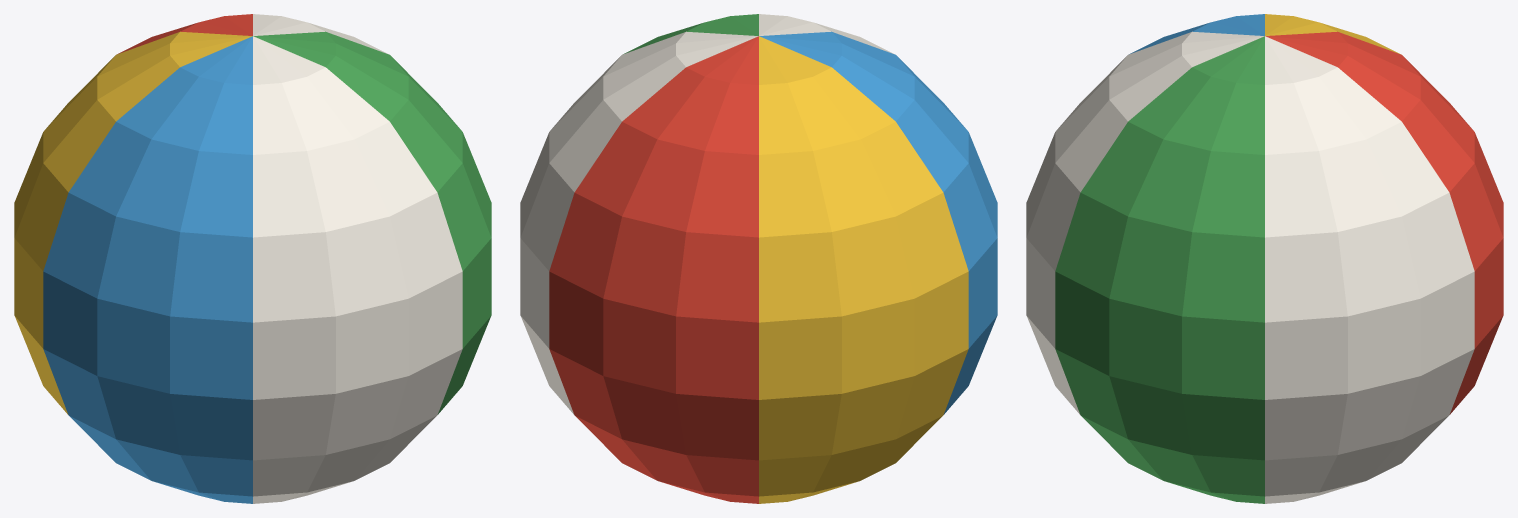
The model's file is beach_ball.glb.
3 renders of one model, left to right at view 1: azimuth 30°, elevation 25°; view 2: azimuth 150°, elevation 25°; view 3: azimuth 270°, elevation 25°, orthographic.
Parts seen in each view (by area): view 1: beach_ball; view 2: beach_ball; view 3: beach_ball.
Part boxes in pixels (box(x1,y1,x2,y2)): beach_ball: box(14, 14, 491, 503); beach_ball: box(520, 14, 997, 503); beach_ball: box(1026, 14, 1503, 503).
Size of the model in its own units: 4.92 by 5 by 4.85.
